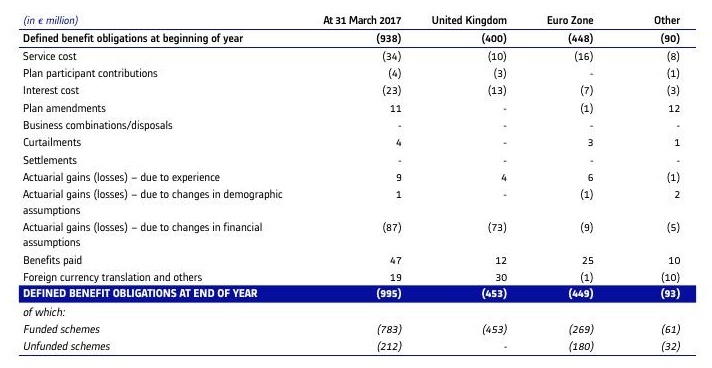table: (0, 0, 712, 368)
